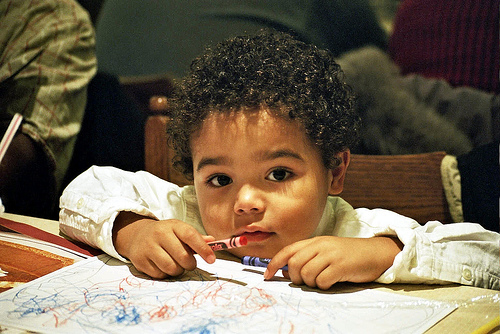without_mask: (187, 111, 350, 261)
